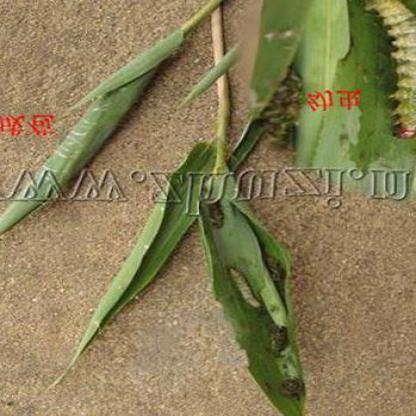leaf-folder: (343, 4, 416, 172), (212, 252, 265, 321)
